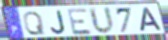7: (115, 8, 135, 34)
A: (140, 7, 164, 33)
E: (66, 8, 94, 36)
J: (49, 10, 67, 35)
Q: (22, 11, 47, 36)
U: (87, 6, 116, 36)
